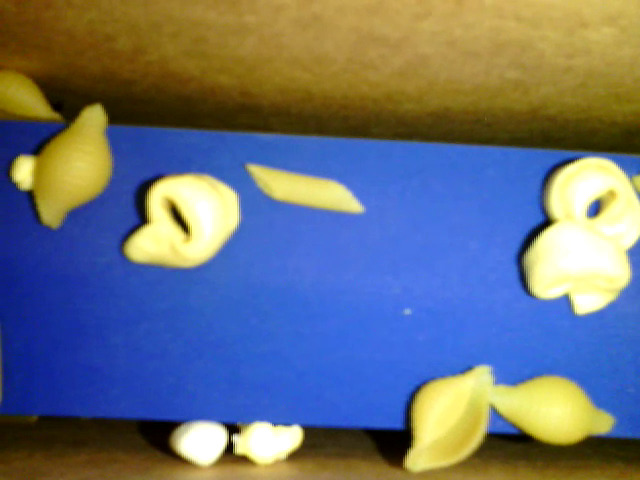penne: (245, 161, 361, 212)
shell: (404, 360, 494, 472), (32, 103, 111, 226), (486, 371, 616, 444), (1, 72, 69, 127)
tortellini: (122, 172, 242, 270), (518, 222, 630, 315), (543, 153, 639, 248)
